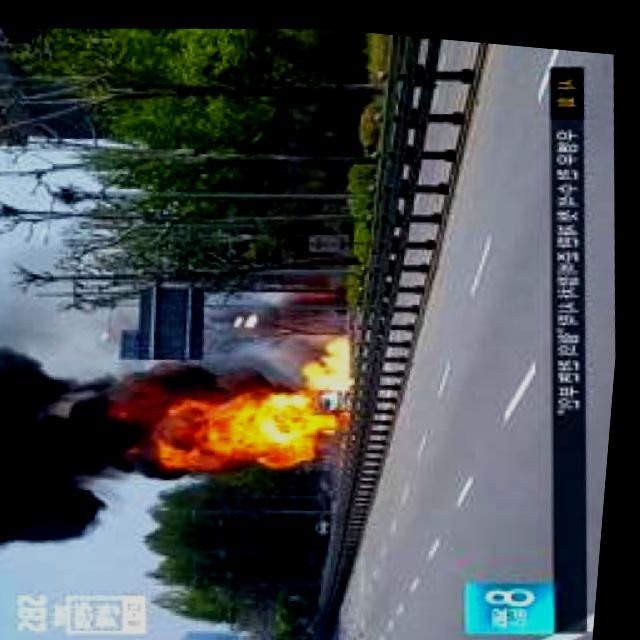helmet: (107, 348, 355, 478), (315, 331, 365, 386)
no_helmet: (0, 330, 133, 561)
